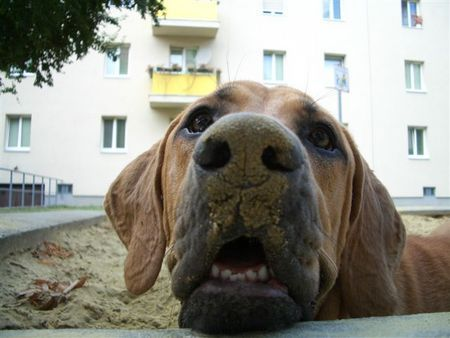fila_brasileiro: (101, 78, 450, 334)
